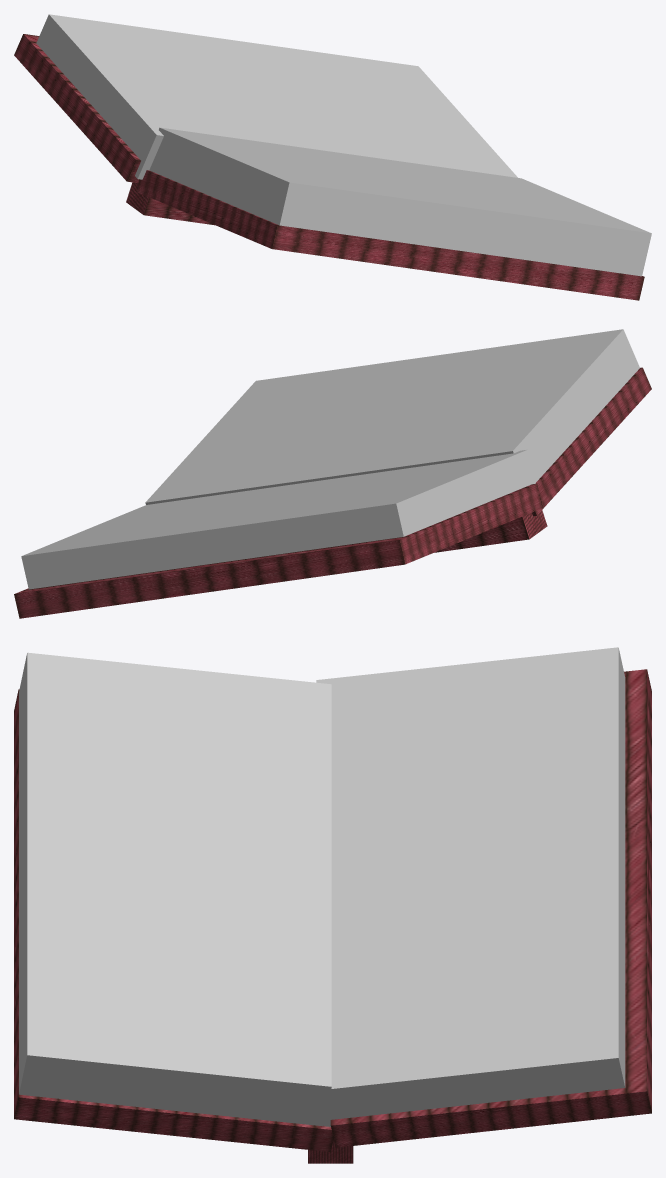
File: Book1.fbx
The picture shows the model from 3 angles, top to bottom: view 1: azimuth 30°, elevation 25°; view 2: azimuth 150°, elevation 25°; view 3: azimuth 270°, elevation 25°; orthographic projection. The views are drawn at different scales.
Visible parts, largest first — view 1: Cube.004, Cube.003, Cube, Cube.001, Cube.002; view 2: Cube.003, Cube.004, Cube.001, Cube, Cube.002; view 3: Cube.003, Cube.004, Cube.001, Cube.
Part boxes in pixels (left/top/right/bottom): Cube.004: left=36, top=14, right=517, bottom=179; Cube.003: left=149, top=127, right=651, bottom=276; Cube: left=136, top=170, right=644, bottom=300; Cube.001: left=14, top=34, right=140, bottom=182; Cube.002: left=126, top=182, right=214, bottom=225; Cube.003: left=145, top=329, right=639, bottom=504; Cube.004: left=21, top=449, right=535, bottom=589; Cube.001: left=14, top=483, right=542, bottom=618; Cube: left=532, top=367, right=651, bottom=516; Cube.002: left=434, top=510, right=547, bottom=552; Cube.003: left=19, top=652, right=331, bottom=1126; Cube.004: left=316, top=647, right=625, bottom=1126; Cube.001: left=330, top=669, right=651, bottom=1147; Cube: left=14, top=689, right=333, bottom=1152.
Bounding box in the file's own units: 157 × 90.33 × 169.
